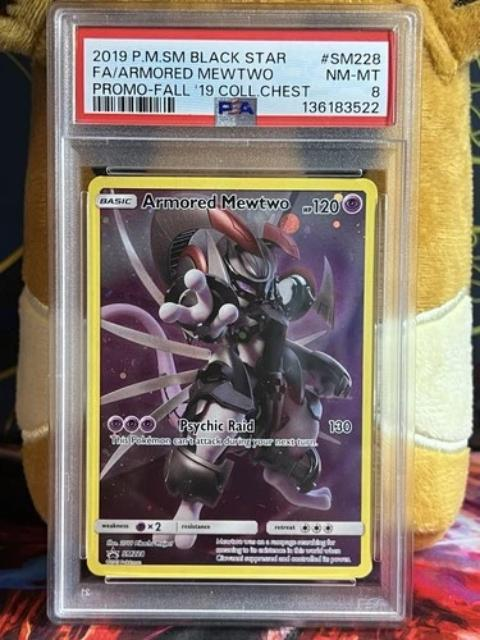Card: (82, 173, 384, 582)
Name: (136, 187, 289, 212)
